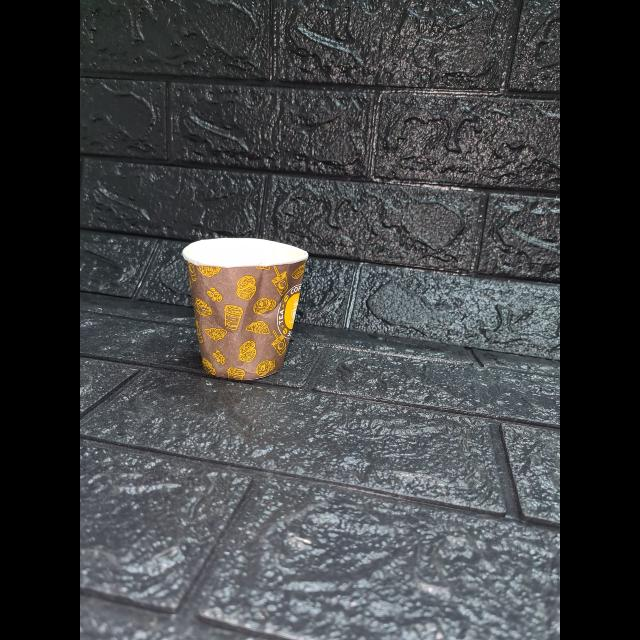trash: (174, 231, 318, 387)
